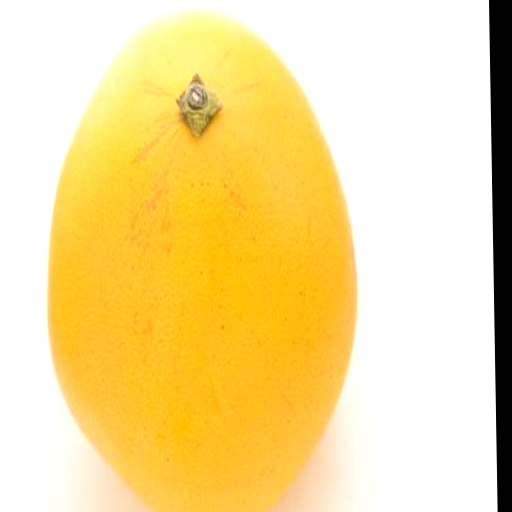fruit: (48, 11, 356, 512)
